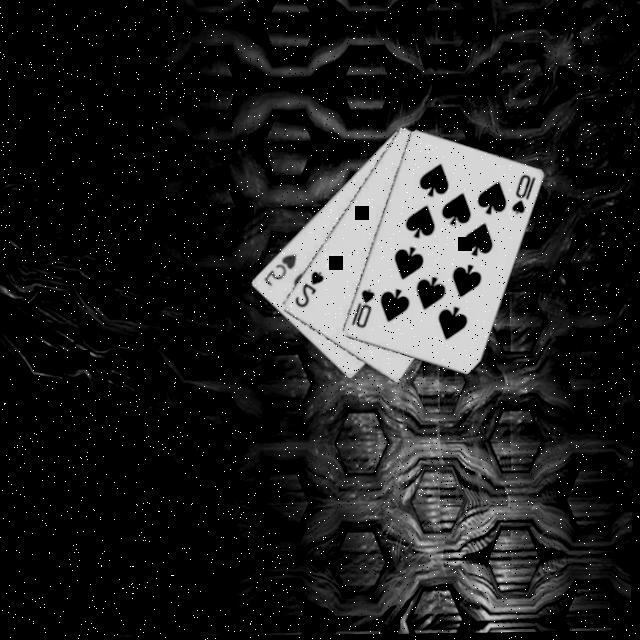10S: (509, 172, 540, 218), (350, 285, 379, 330)
2S: (292, 267, 329, 310)
5H: (262, 250, 300, 288)
